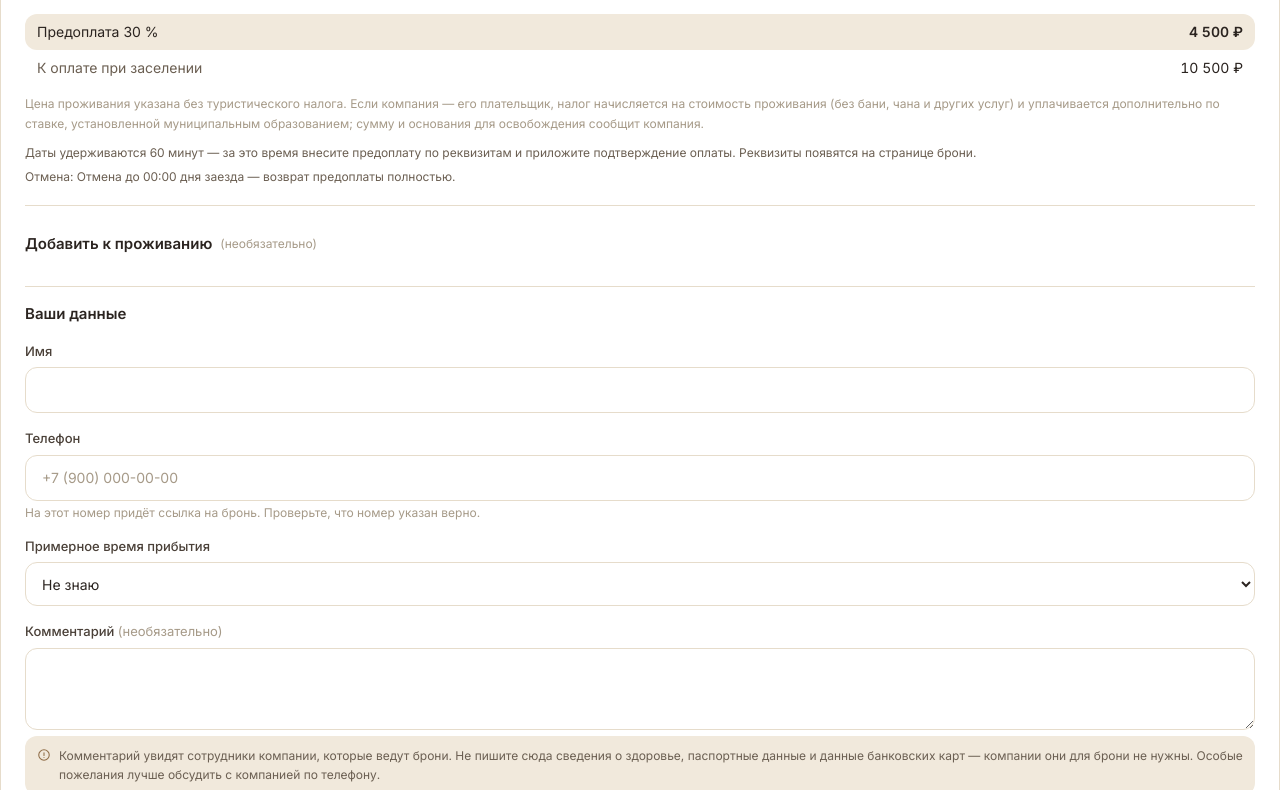
Scenario: BookingPanel › a 429 text is printed as it is
(page scrolled)
In the field labelled "Имя": (640, 390) [25,367,1255,413], type "Анна"
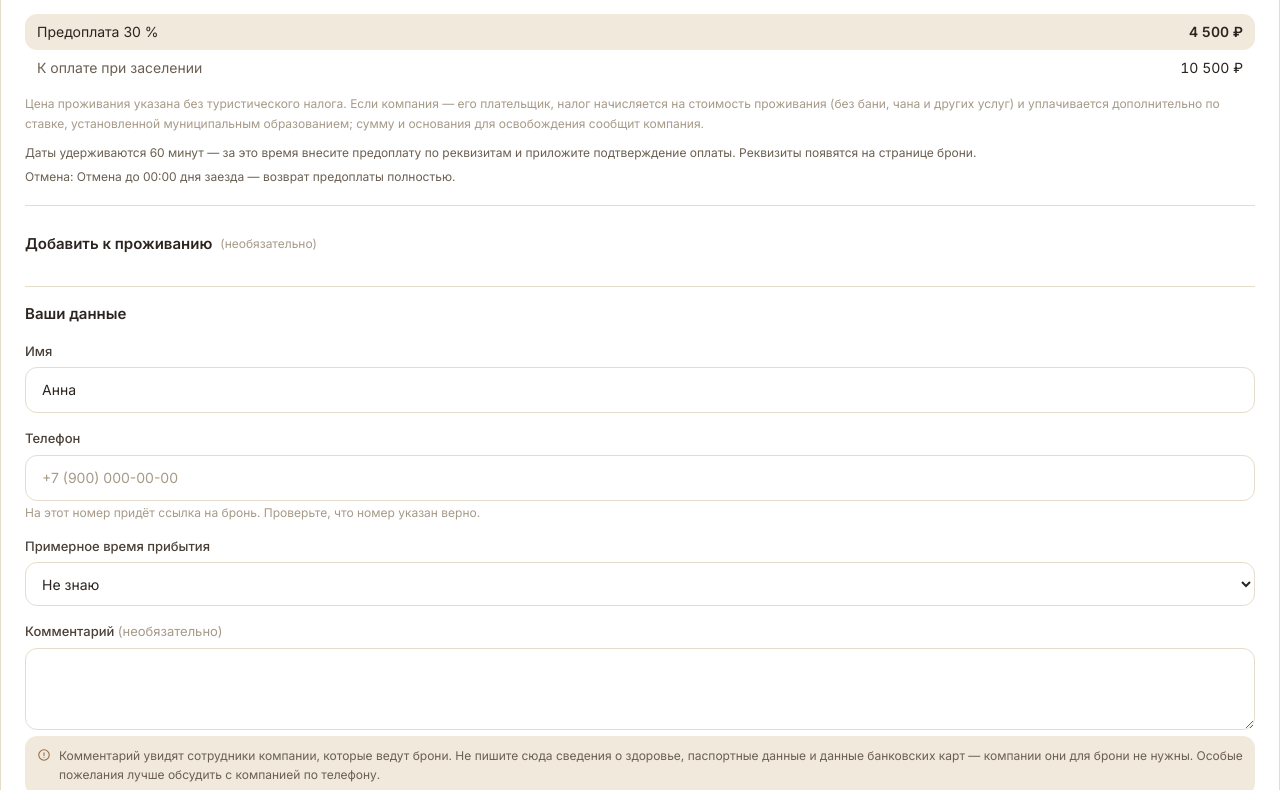
In the field labelled "Телефон": (640, 478) [25,454,1255,500], type "9001234567"
(page scrolled)
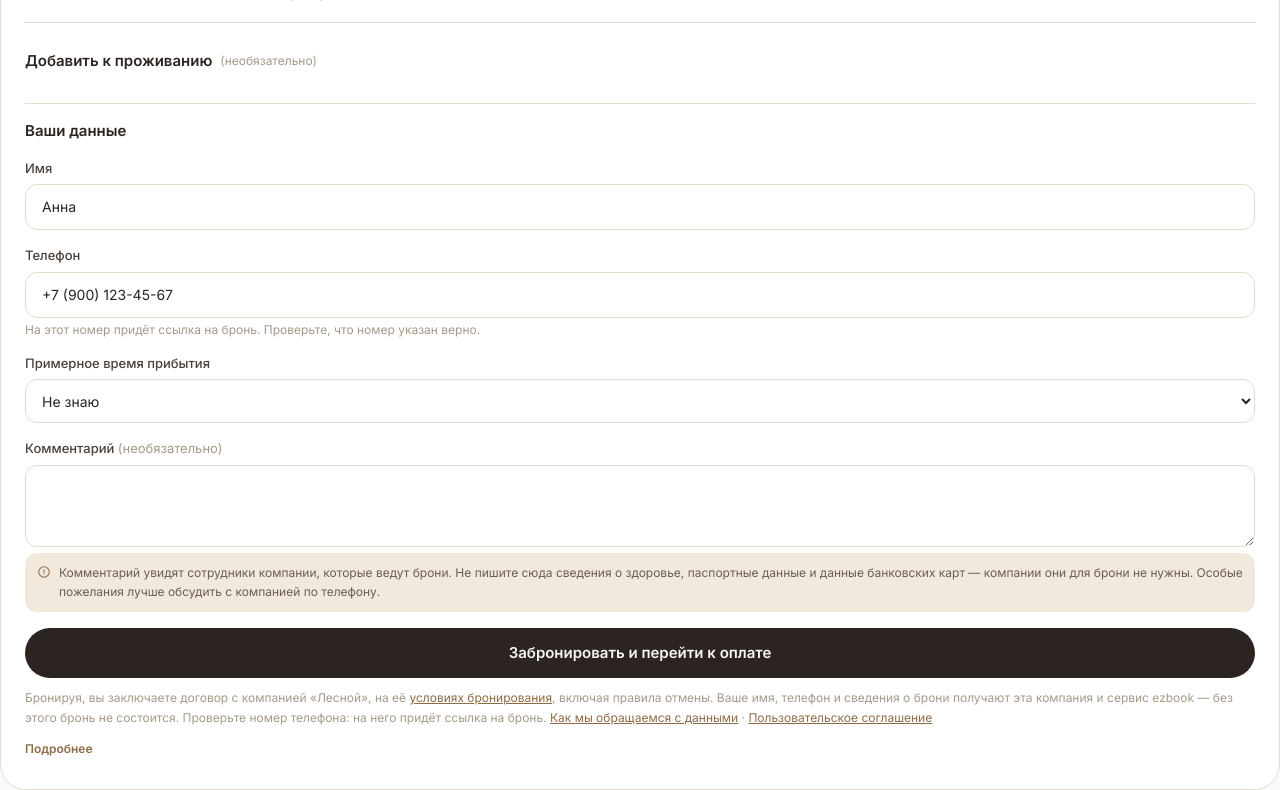
Click the button "Забронировать и перейти к оплате": (640, 653) [25,628,1255,678]
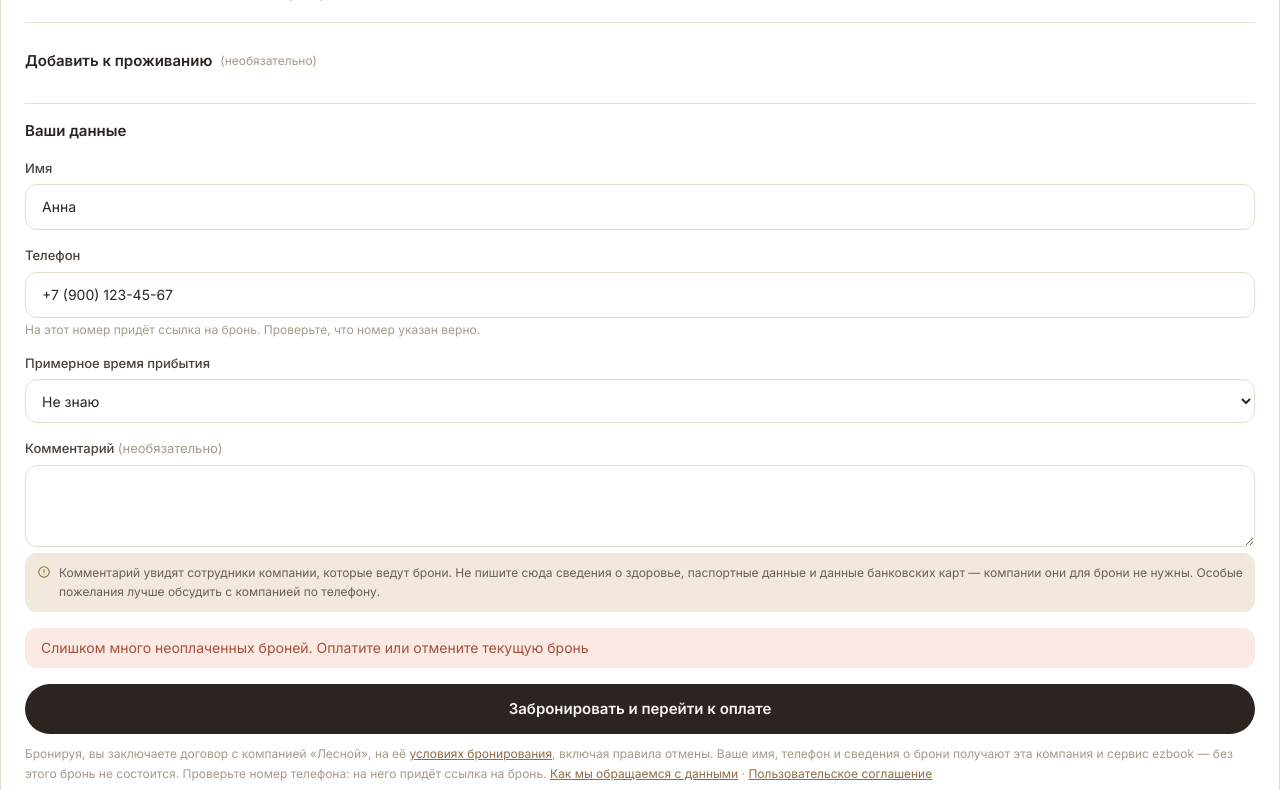
Expected: the text "Слишком много неоплаченных броней. Оплатите или отмените текущую бронь" is shown, [25,628,1255,668]
